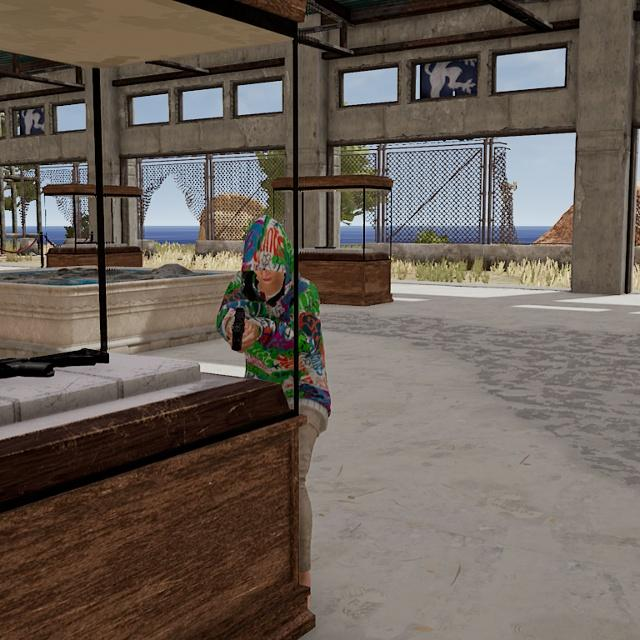head: (240, 212, 291, 290)
people: (211, 211, 331, 612)
